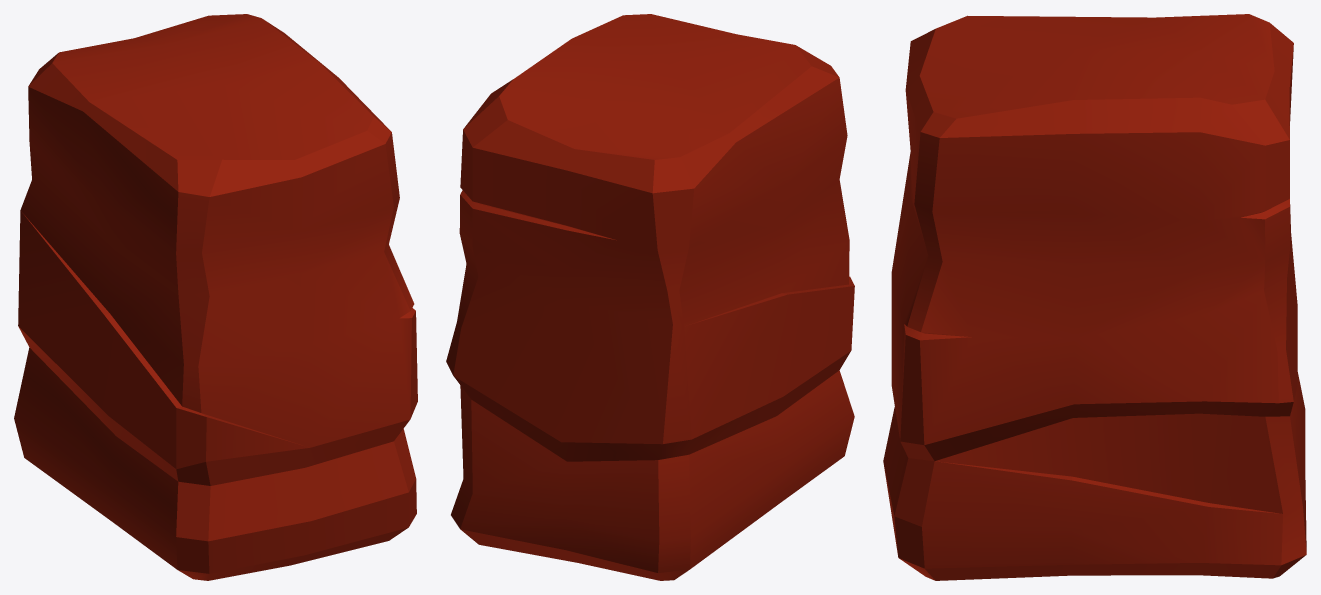
File: SM_Rock_Square 1.fbx
3 renders of one model, left to right at view 1: azimuth 30°, elevation 25°; view 2: azimuth 150°, elevation 25°; view 3: azimuth 270°, elevation 25°, orthographic. The views are drawn at different scales.
Parts seen in each view (by area): view 1: SM_Rock_Square; view 2: SM_Rock_Square; view 3: SM_Rock_Square.
Part boxes in pixels (left/top/right/bottom): SM_Rock_Square: left=14, top=14, right=417, bottom=580; SM_Rock_Square: left=446, top=14, right=854, bottom=580; SM_Rock_Square: left=883, top=14, right=1306, bottom=580.
Bounding box in the file's own units: 140 × 231 × 179.
